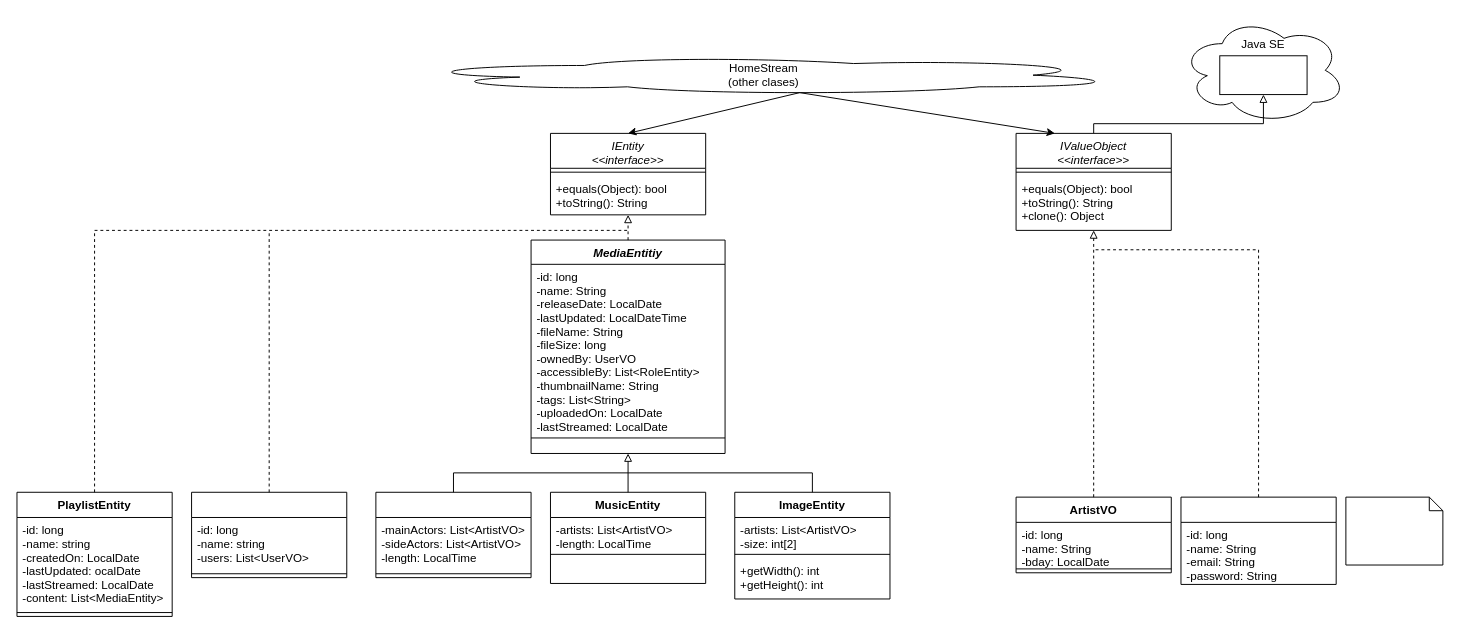
Image size: 1460x633. Some labels were removed from this diagram. The shapes that lost their labels are listed below. From the top down, each one's box as (x1, y1, x2, y2) in pixels, then its label:
(1219, 55, 1307, 95): Cloneable <<interface>>
(191, 491, 347, 578): RoleEntity
(375, 491, 531, 578): FilmEntity
(1180, 496, 1336, 584): UserVO
(1345, 496, 1443, 565): UserVO: Store password as hash (obviously)
